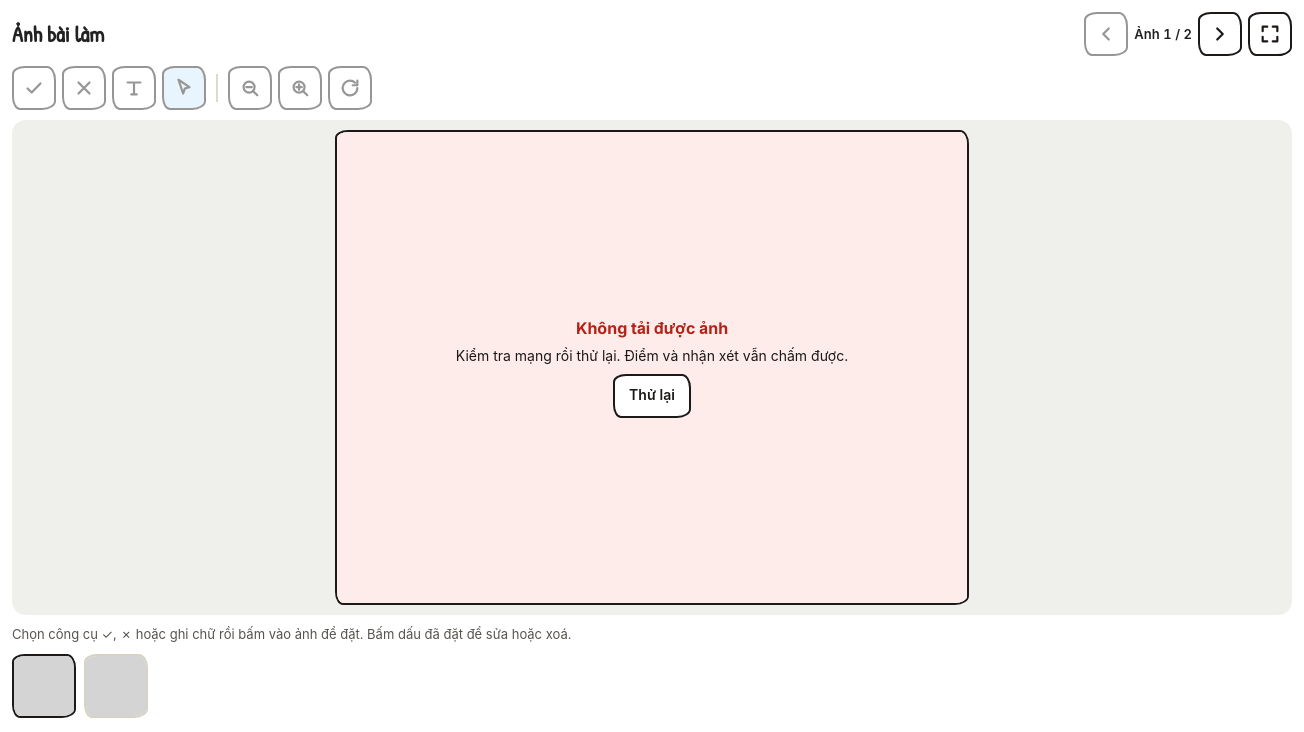
Test: ImageMarker — teacher (SPT-84) › a photo that fails shows "Thử lại" (and the note that grading still works); retry reloads it
The image size is (1304, 732).
Expected: the message that starts with "Không tải được ảnh" is shown, [576,318,728,338]
Expected: the message that starts with "Không tải được ảnh" shows "Điểm và nhận xét vẫn chấm được", [621,347,848,364]
Click the button "Thử lại" at (652, 396), box [613,374,691,418]
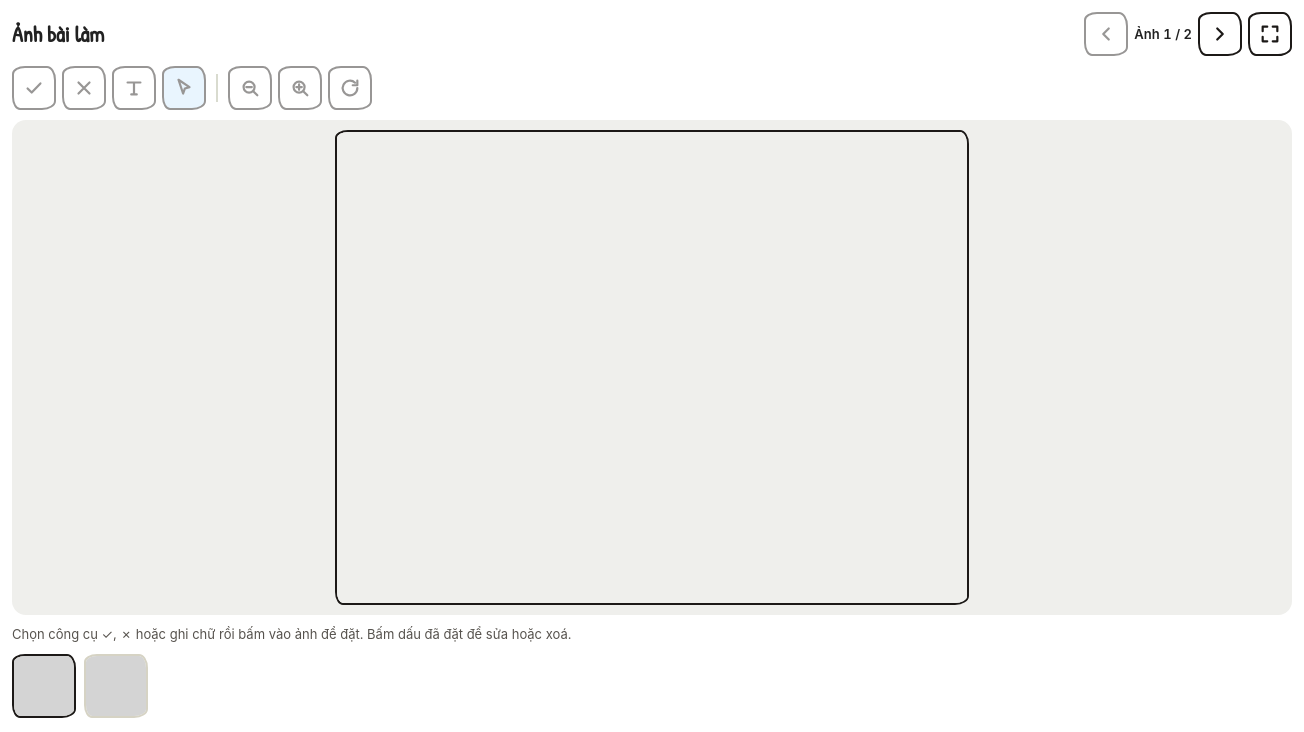
Now the message named "Đang tải ảnh" is shown, box [337,132,967,603]
